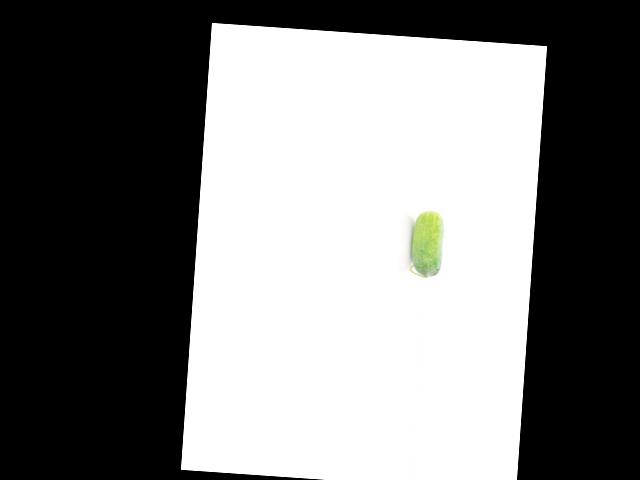cucumber: (408, 208, 445, 278)
